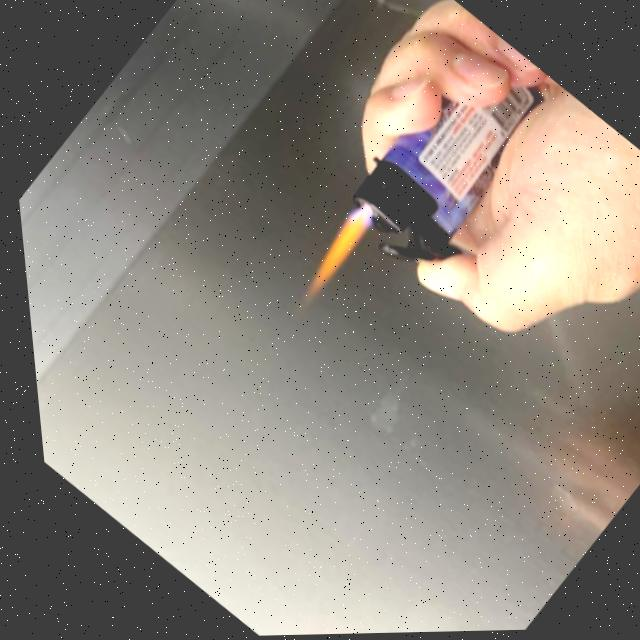Fire: (277, 201, 383, 307)
